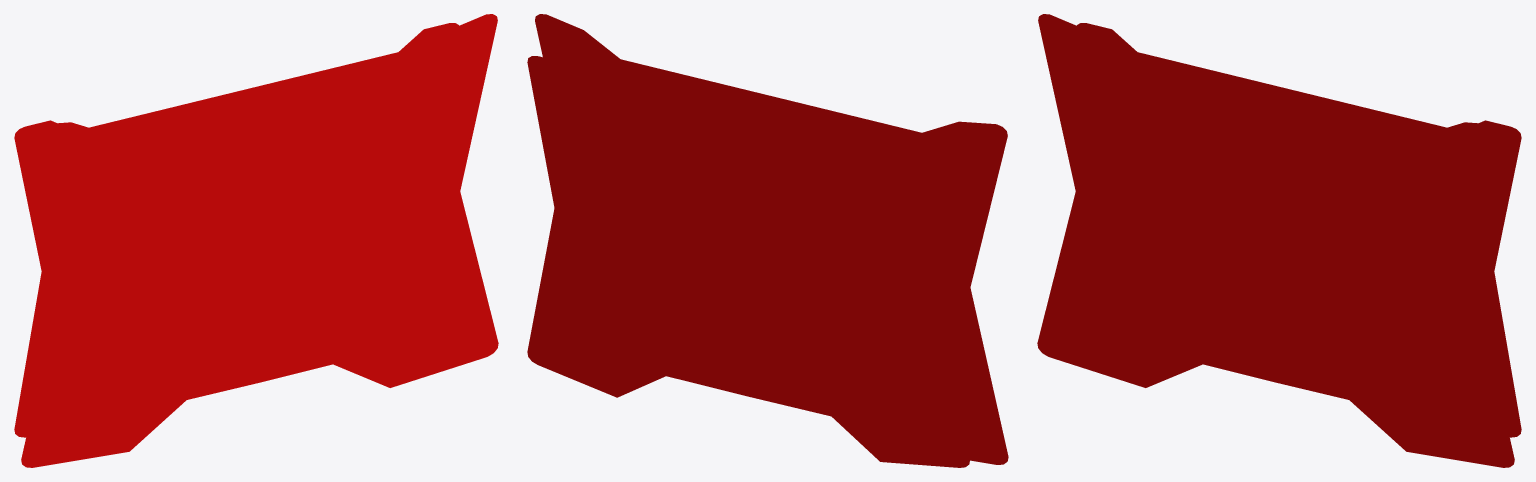
File: LaptopStand_LaptopRed_0.dae
3 renders of one model, left to right at view 1: azimuth 30°, elevation 25°; view 2: azimuth 150°, elevation 25°; view 3: azimuth 330°, elevation 25°, orthographic.
Parts seen in each view (by area): view 1: LaptopStand_LaptopRed_0; view 2: LaptopStand_LaptopRed_0; view 3: LaptopStand_LaptopRed_0.
Boxes of the visible parts, x1,y1,x2,y2 form: LaptopStand_LaptopRed_0: (14,14,498,467); LaptopStand_LaptopRed_0: (527,14,1008,467); LaptopStand_LaptopRed_0: (1037,14,1521,467).
Size of the model in its own units: 0.3465 by 0.243 by 0.0286.
